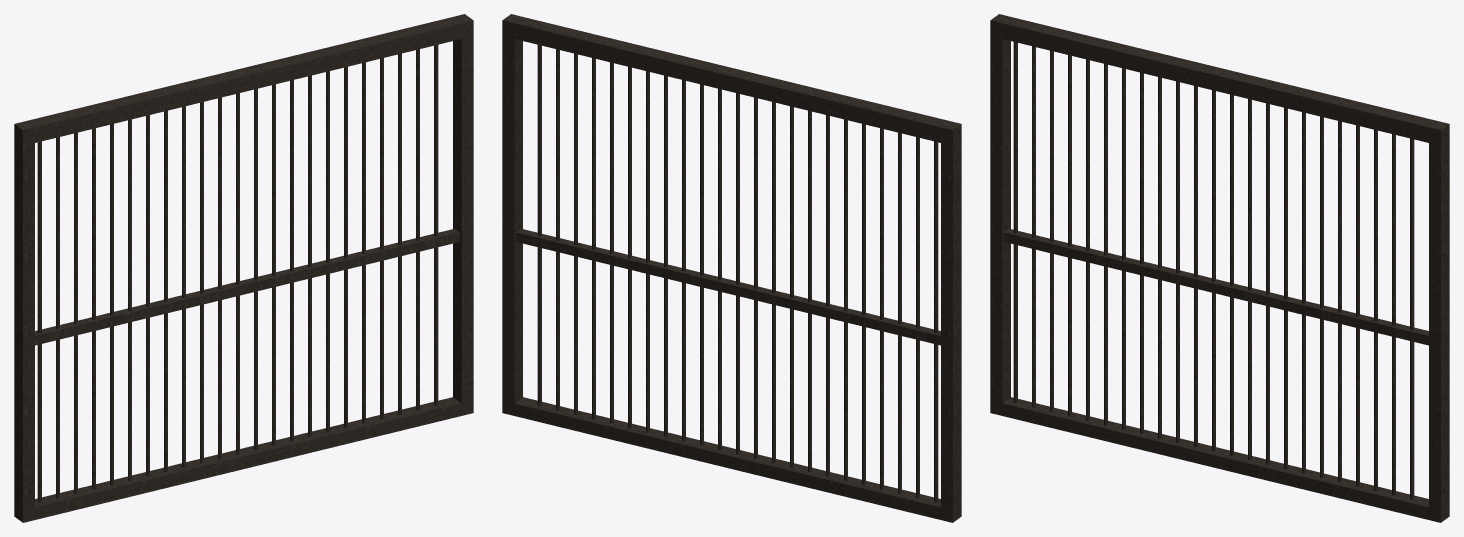
The model's file is cell_bars.glb.
3 renders of one model, left to right at view 1: azimuth 30°, elevation 25°; view 2: azimuth 150°, elevation 25°; view 3: azimuth 330°, elevation 25°, orthographic.
Visible parts, largest first — view 1: cell_bars; view 2: cell_bars; view 3: cell_bars.
Boxes of the visible parts, <box> form: cell_bars: <box>14,14,473,522</box>; cell_bars: <box>502,14,961,522</box>; cell_bars: <box>990,14,1449,522</box>.
Size of the model in its own units: 3 by 2.5 by 0.1.
1 material, 1 textured.
